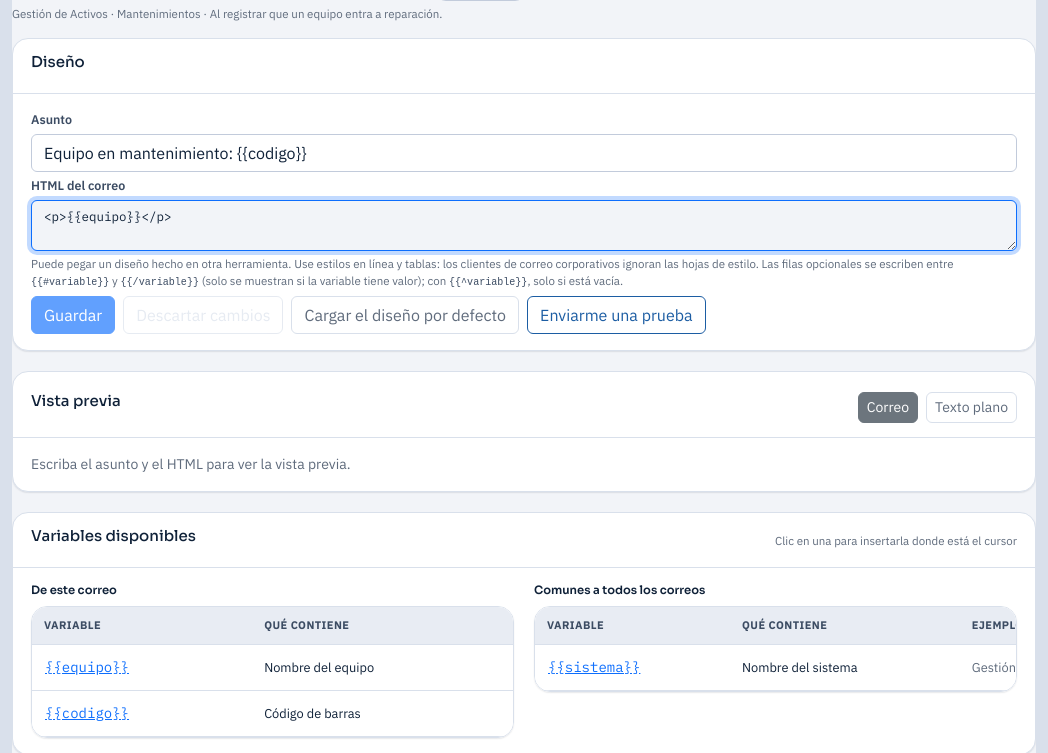
Test case: El editor › inserta la variable en el cursor, avisa de cambios y guarda
(page scrolled)
Click the button with aria-label "Insertar {{codigo}}" at (87, 713), box [44,702,130,725]
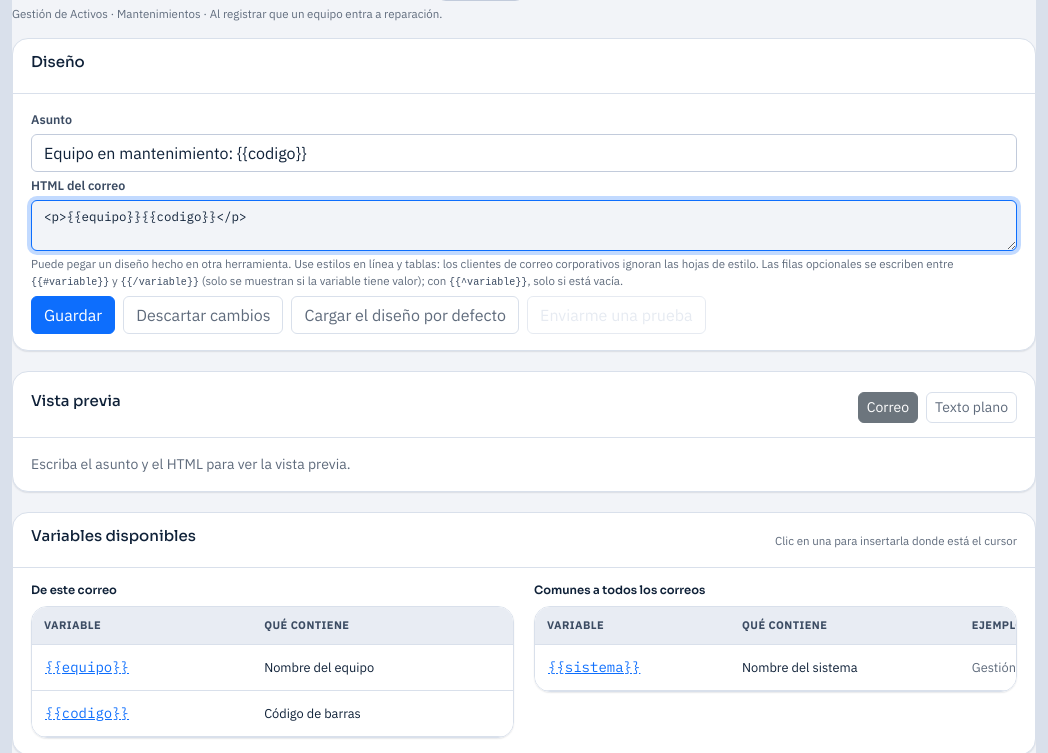
Check: the text box labelled "HTML del correo" holds "<p>{{equipo}}{{codigo}}</p>", box [31,200,1017,251]
Click the button "Guardar" at (73, 315), box [31,296,115,334]
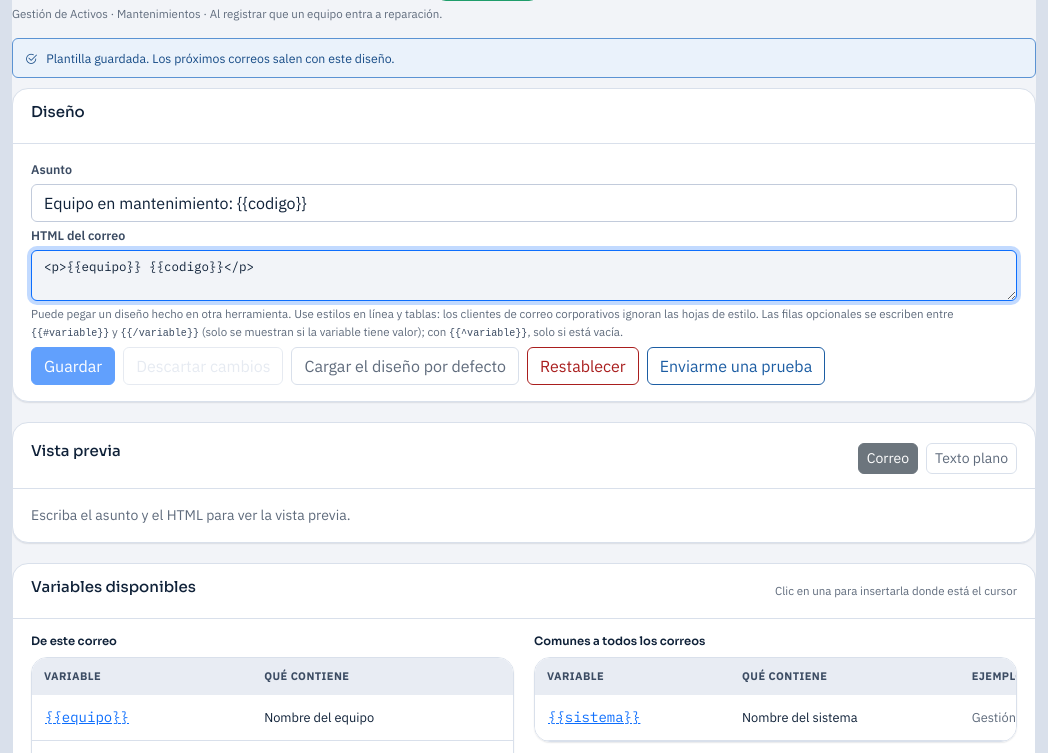
Check: the text "Plantilla guardada. Los próximos correos salen con este diseño." is shown, box [12,38,1036,78]
Check: the button "Restablecer" is shown, box [527,347,639,385]
